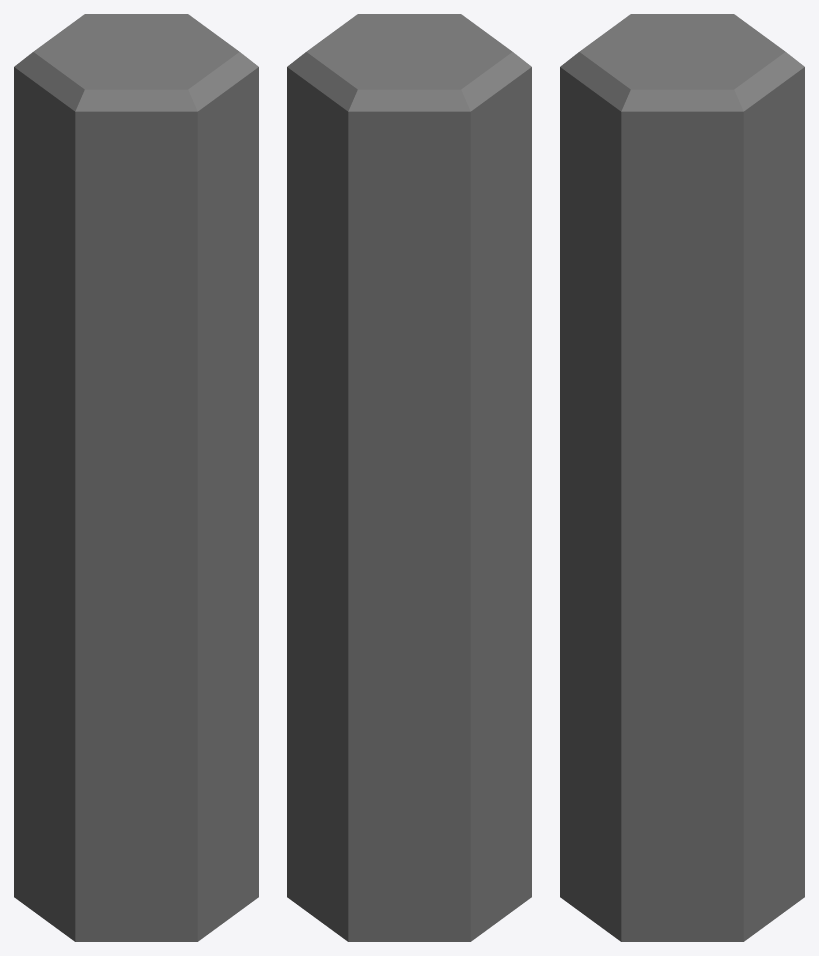
File: Stone_2.fbx
3 views of the same model, side by side, from view 1: azimuth 30°, elevation 25°; view 2: azimuth 150°, elevation 25°; view 3: azimuth 270°, elevation 25° (orthographic).
Parts seen in each view (by area): view 1: Stone; view 2: Stone; view 3: Stone.
Boxes of the visible parts, x1,y1,x2,y2 form: Stone: [14, 14, 258, 941]; Stone: [287, 14, 531, 941]; Stone: [560, 14, 804, 941].
Size of the model in its own units: 173 by 762 by 200.
